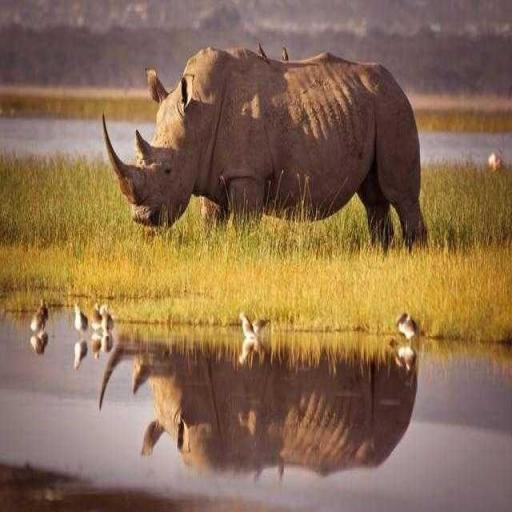Rhino: (101, 42, 428, 254)
